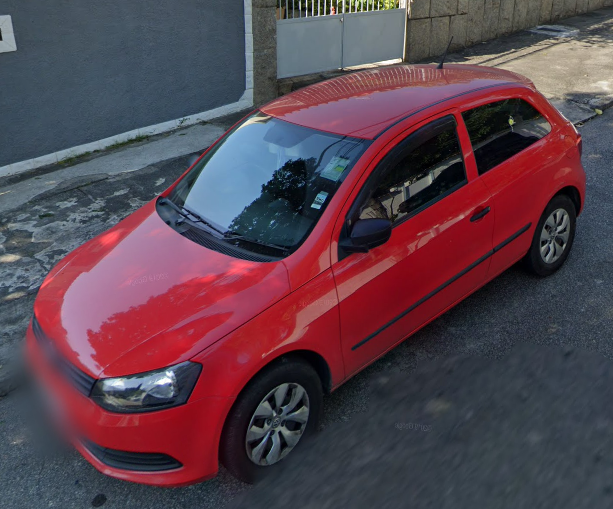car: (27, 61, 588, 489)
